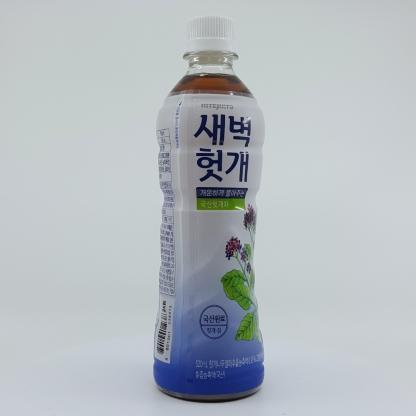---------520ML: (153, 15, 265, 401)
